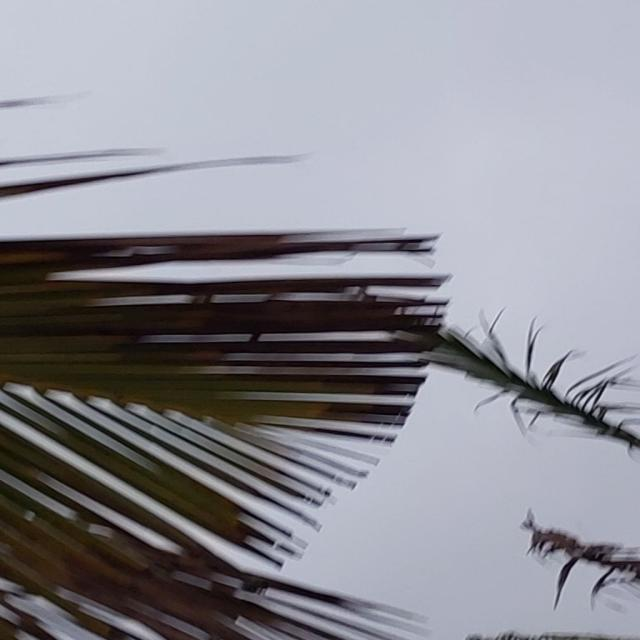leaf rot: (82, 210, 454, 417)
